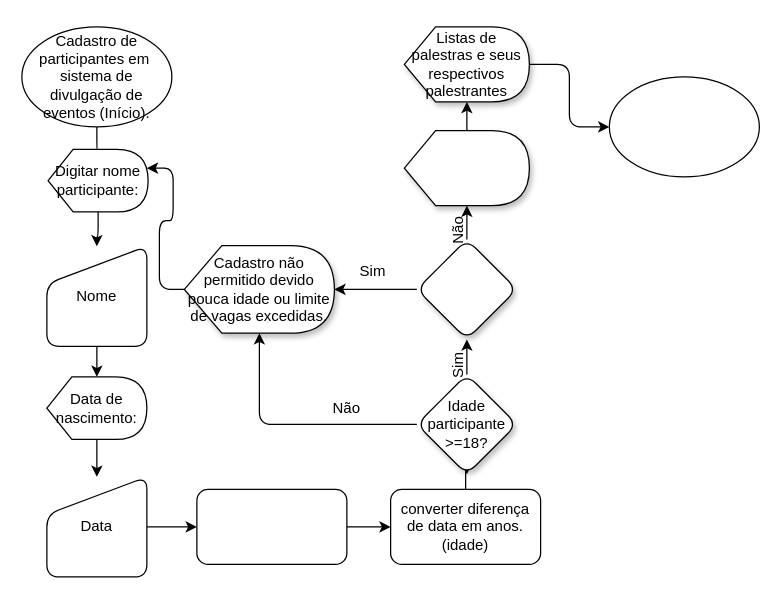
This 781x599 diagram has some shape labels left out. The centre of each missing label's shape, as x and y in pixels:
"Calcular (data de nascimento - data atual)" goes at point (271, 526).
"Obrigado por se cadastrar, tenha uma ótima palestra(Fim)." goes at point (683, 126).
"Participante cadastrado." goes at point (467, 169).
"Quantidade de participantes cadastrados >100?" goes at point (467, 290).
